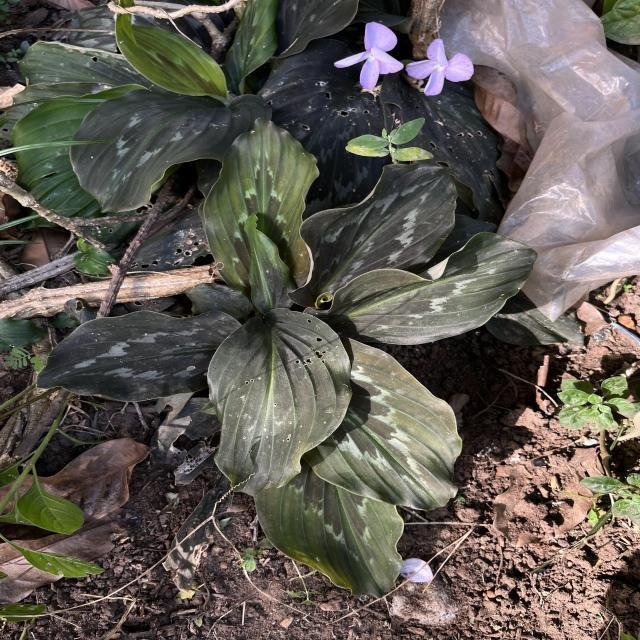Kaempferia galanga linn: (302, 332, 466, 514), (205, 304, 353, 498), (302, 230, 542, 348), (287, 162, 461, 308), (253, 459, 406, 602), (202, 114, 322, 292), (34, 308, 242, 404), (242, 208, 298, 315)
